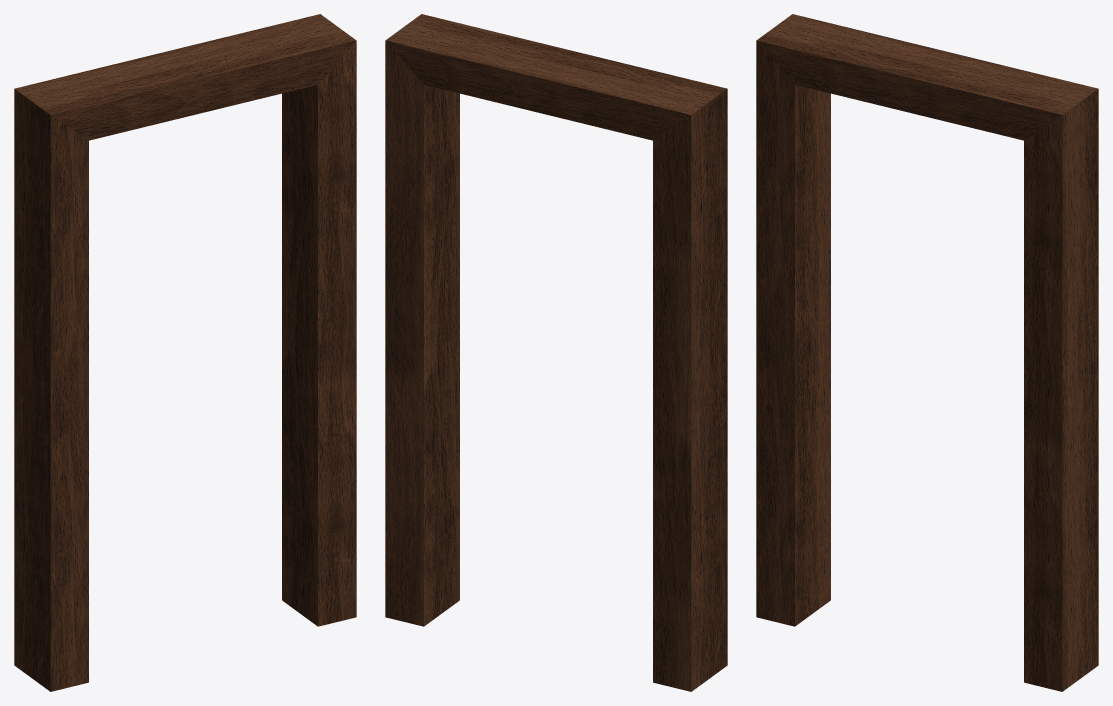
File: door_003.fbx
3 renders of one model, left to right at view 1: azimuth 30°, elevation 25°; view 2: azimuth 150°, elevation 25°; view 3: azimuth 330°, elevation 25°, orthographic.
Visible parts, largest first — view 1: door_003; view 2: door_003; view 3: door_003.
Part boxes in pixels (bbox=[...]): door_003: bbox=[14, 14, 356, 691]; door_003: bbox=[385, 14, 727, 691]; door_003: bbox=[756, 14, 1098, 691].
Bounding box in the file's own units: 127 × 26.01 × 229.
